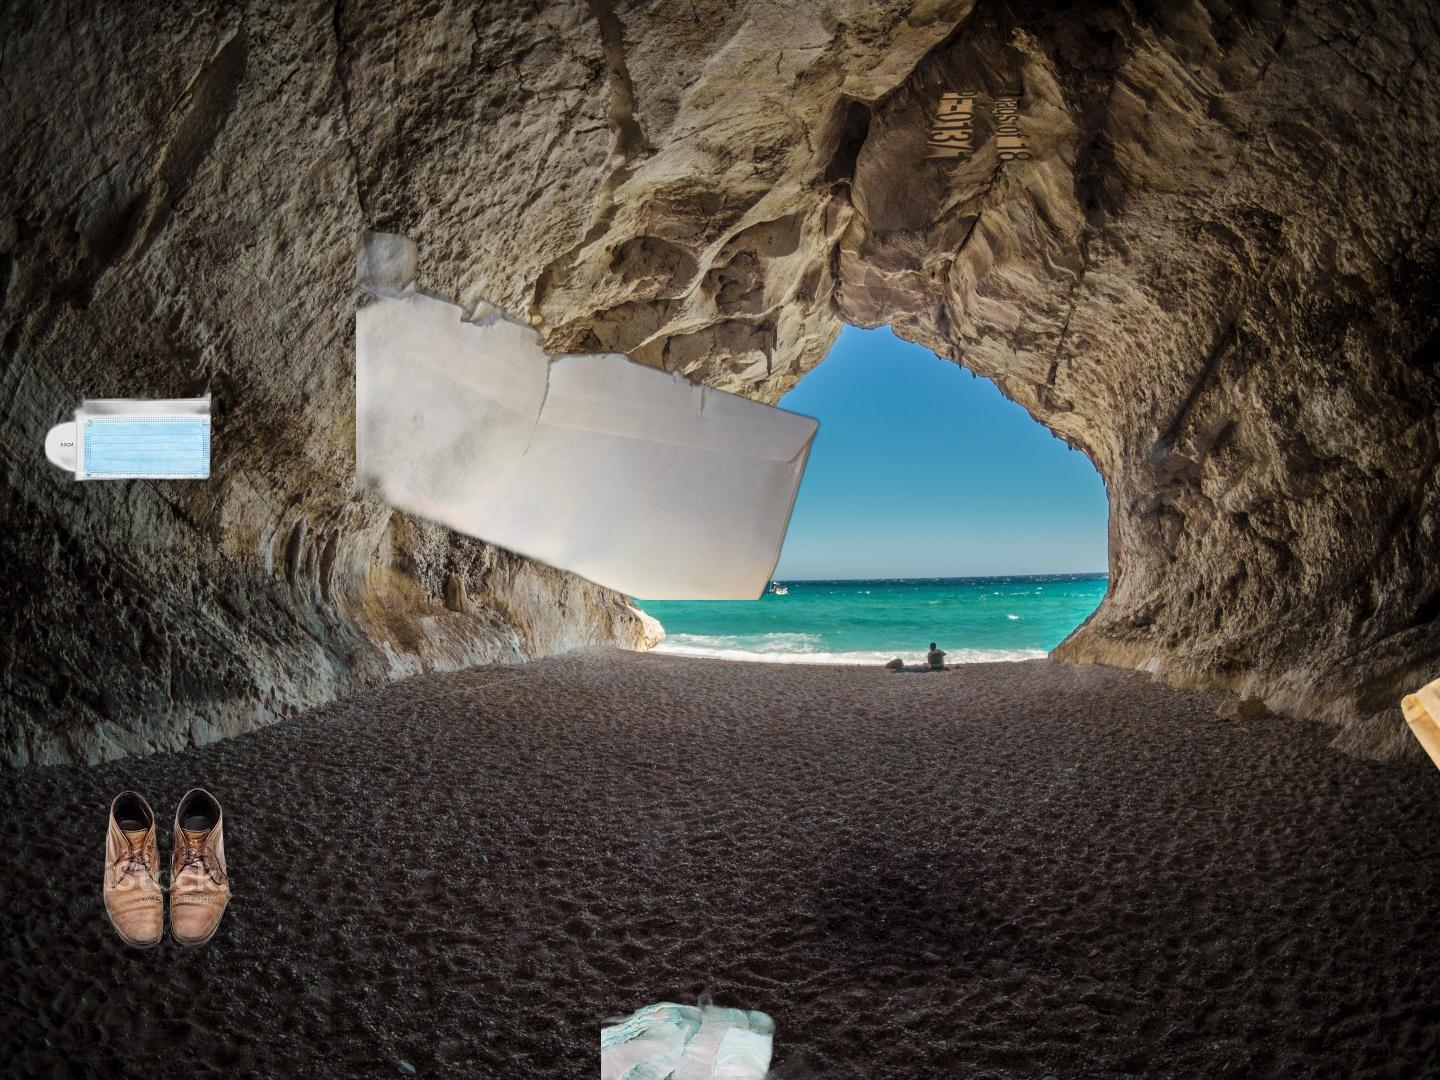paper: (356, 216, 823, 600)
paper-bag: (1397, 613, 1440, 807)
shoes: (100, 785, 236, 953)
trash: (601, 973, 876, 1080), (36, 327, 215, 488)
trashbox-cardboard: (917, 87, 1037, 164)
